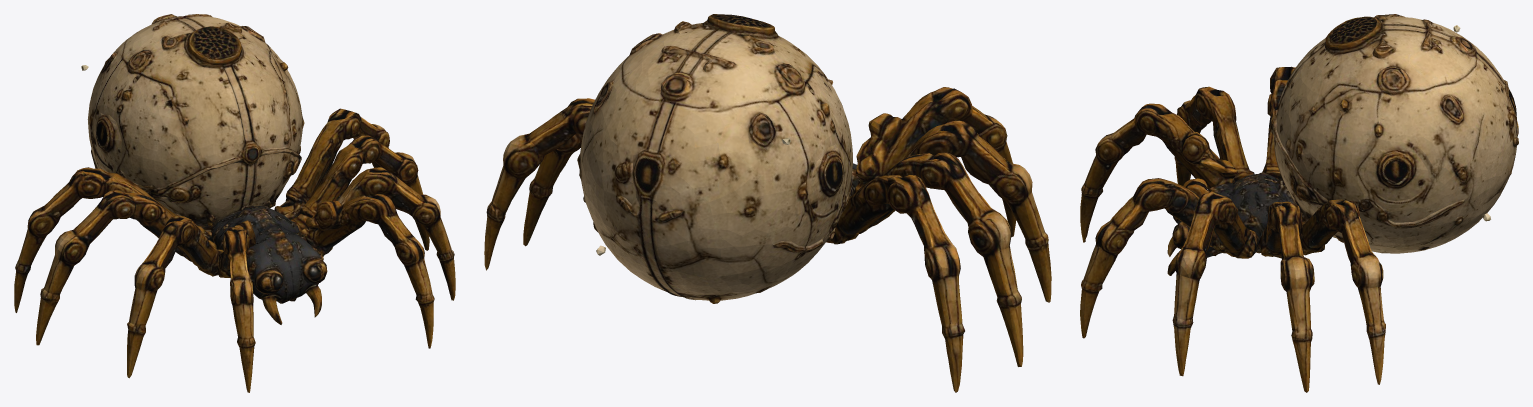
3 views of the same model, side by side, from view 1: azimuth 30°, elevation 25°; view 2: azimuth 150°, elevation 25°; view 3: azimuth 270°, elevation 25° (orthographic). The views are drawn at different scales.
Visible parts, largest first — view 1: geometry_0; view 2: geometry_0; view 3: geometry_0.
Part boxes in pixels (<box>): geometry_0: <box>14,14,455,392</box>; geometry_0: <box>484,14,1051,392</box>; geometry_0: <box>1080,14,1518,392</box>.
Bounding box in the file's own units: 1 × 0.6 × 0.8877.
Materials: 1 (1 with a texture image).
